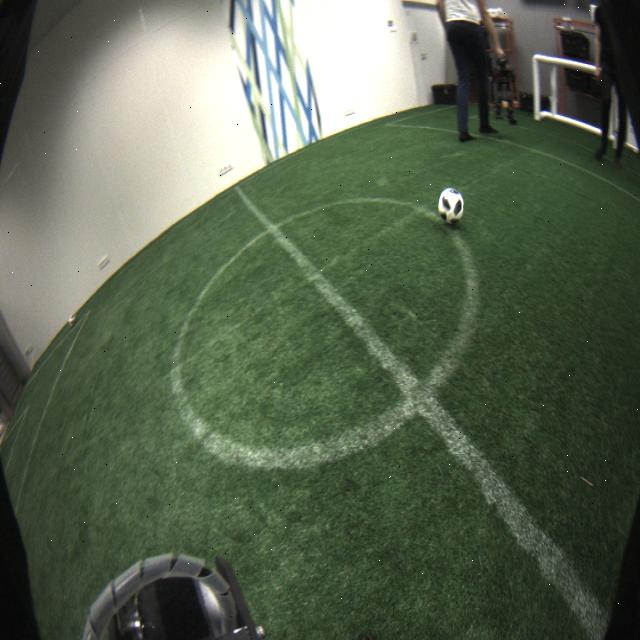ball: (438, 188, 466, 226), (66, 313, 80, 329)
goalpost: (532, 55, 540, 122), (612, 84, 619, 150)
